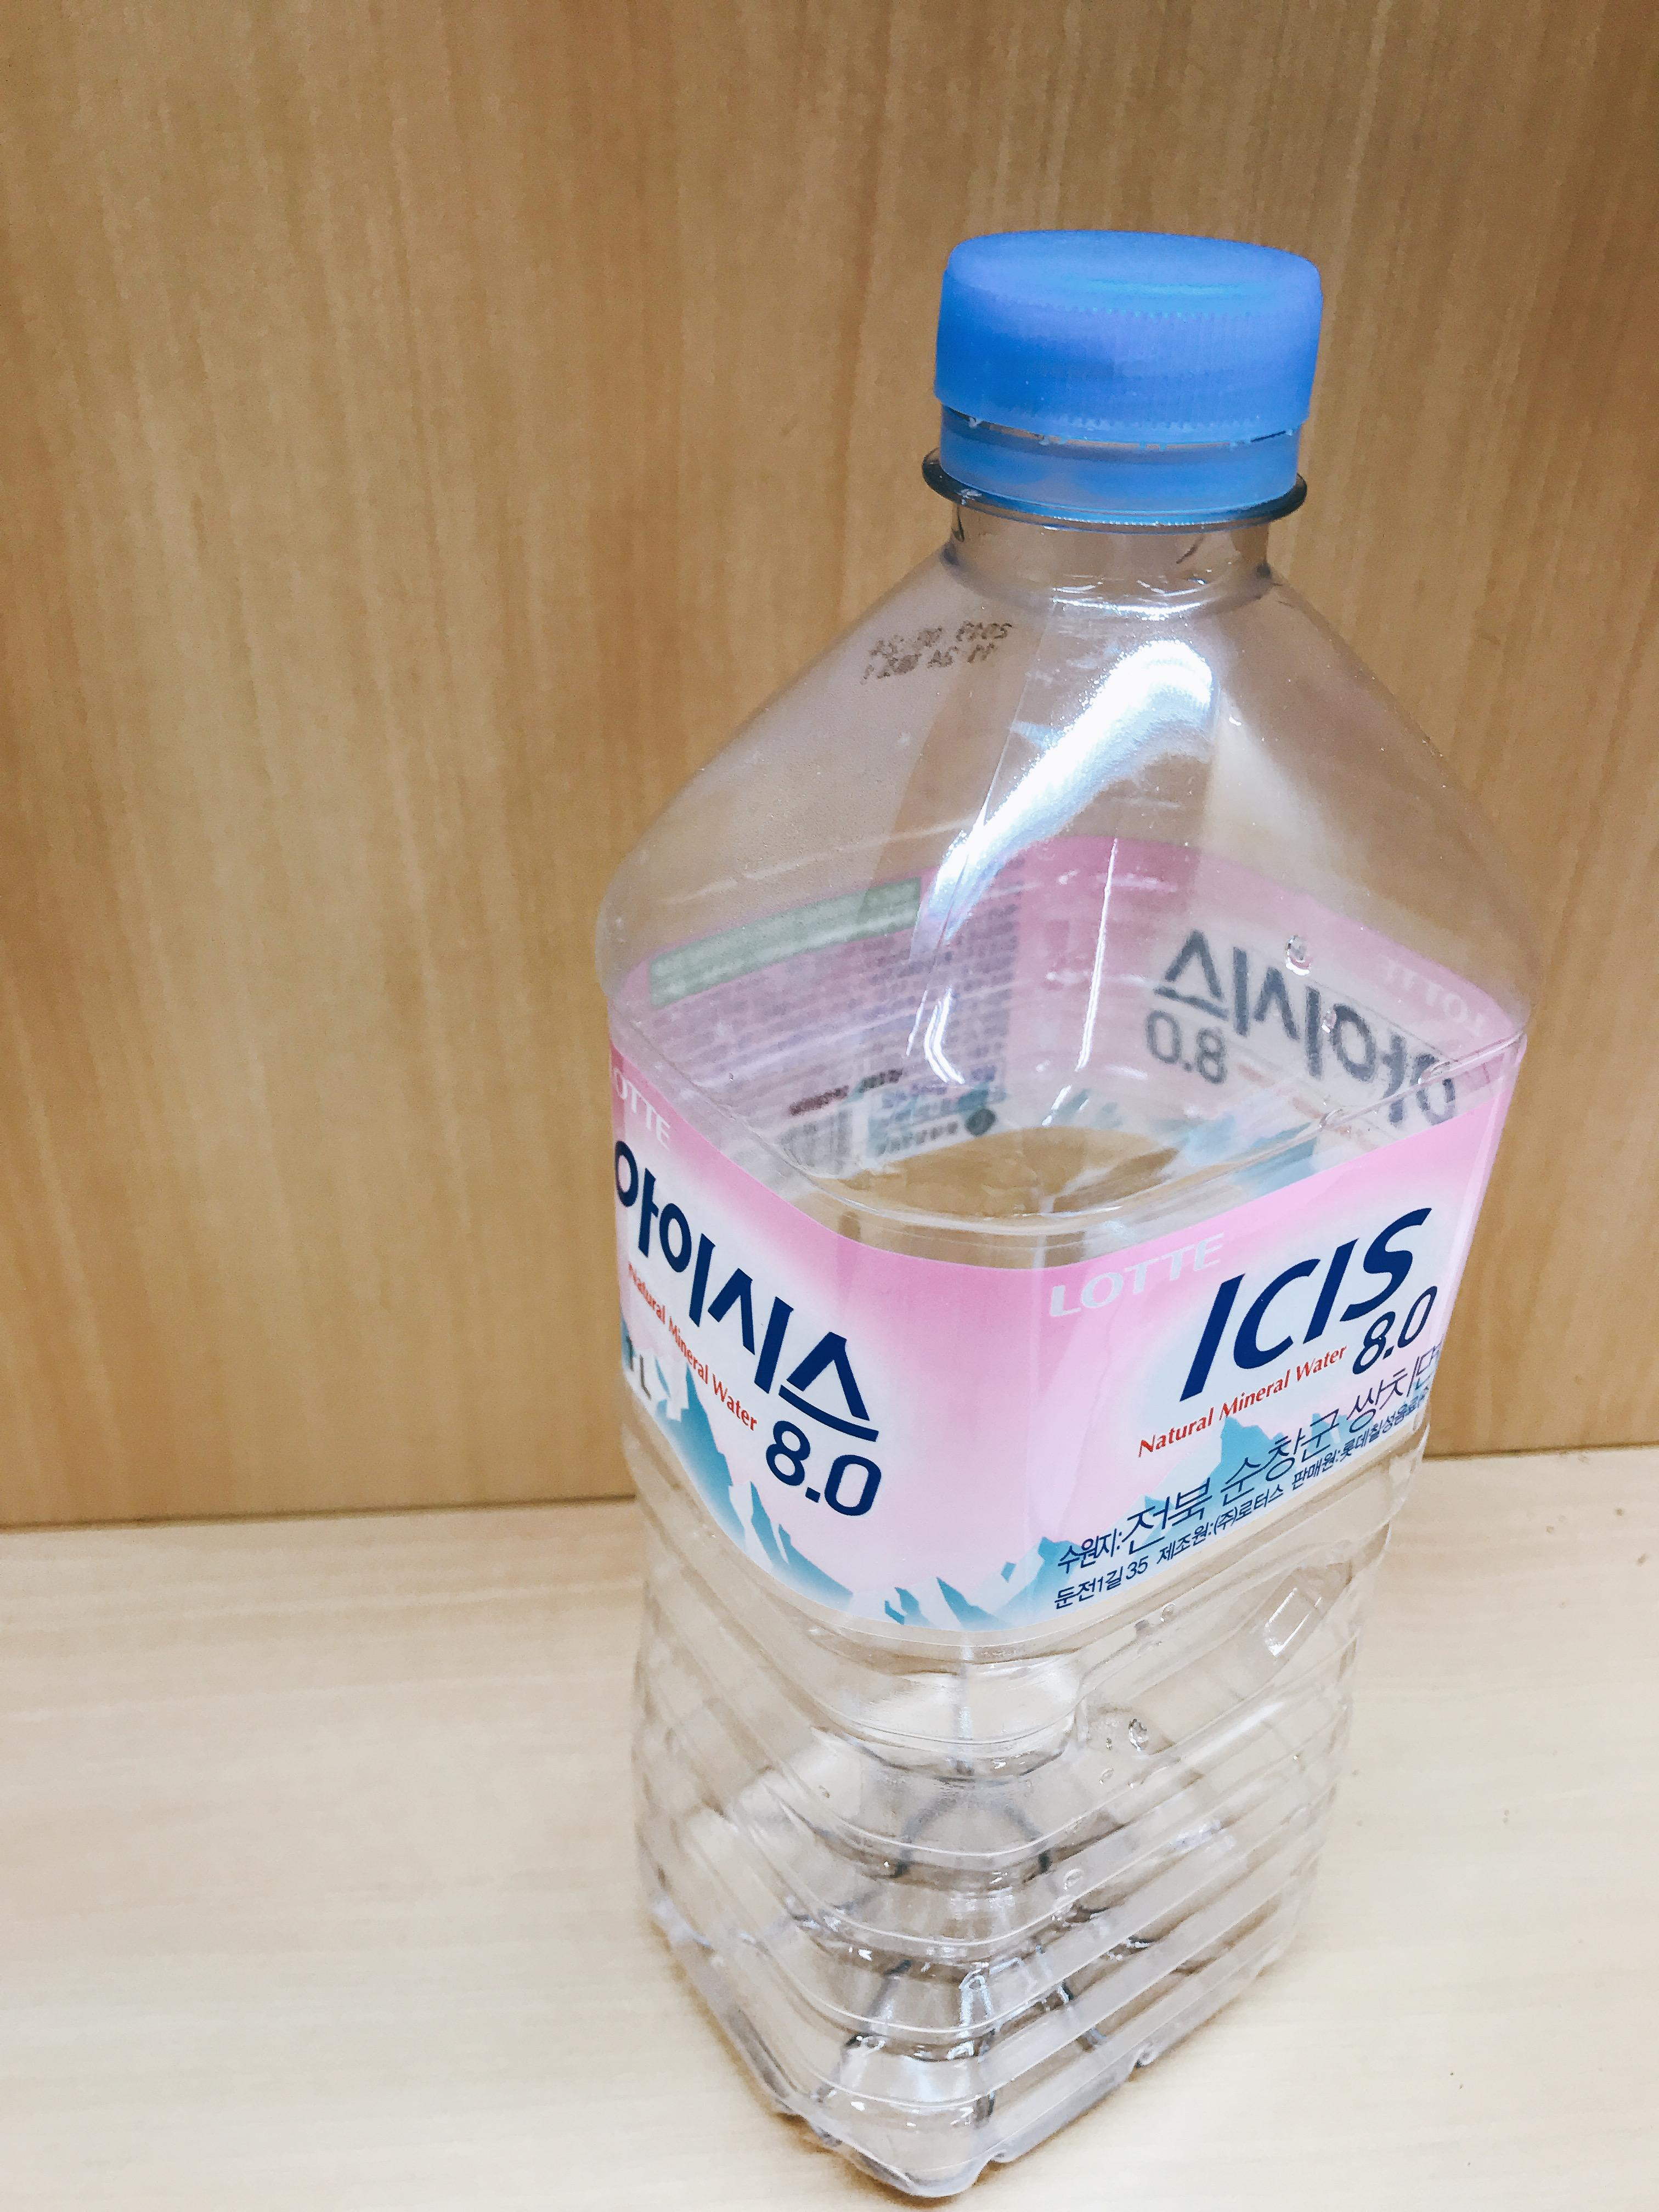bottle: (591, 190, 1574, 2205)
